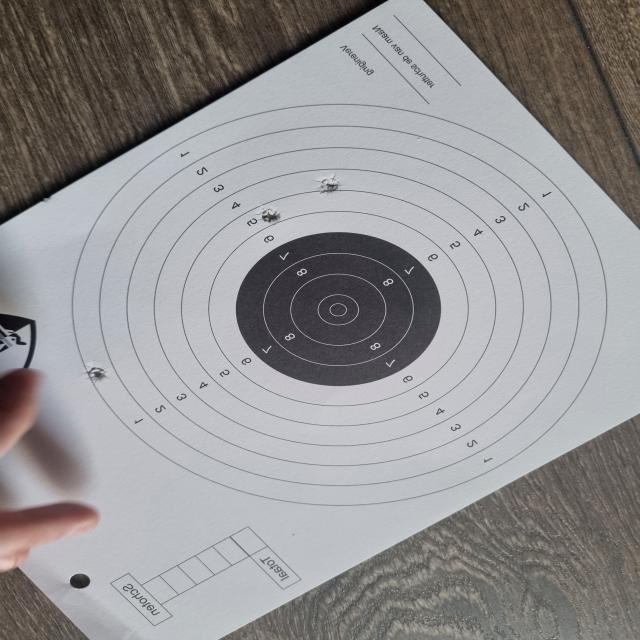1: (83, 364, 110, 381)
5: (318, 176, 343, 195), (257, 206, 284, 223)
Target: (69, 105, 613, 506)
black_contour: (234, 232, 448, 386)
